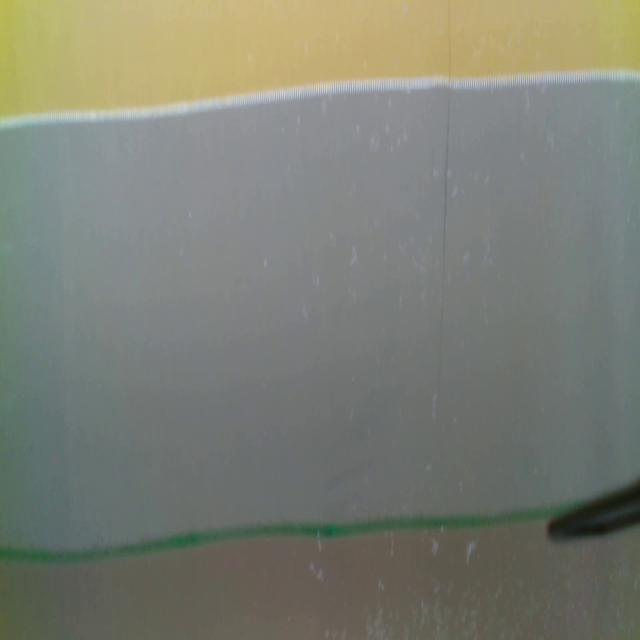crease: (437, 0, 452, 397)
